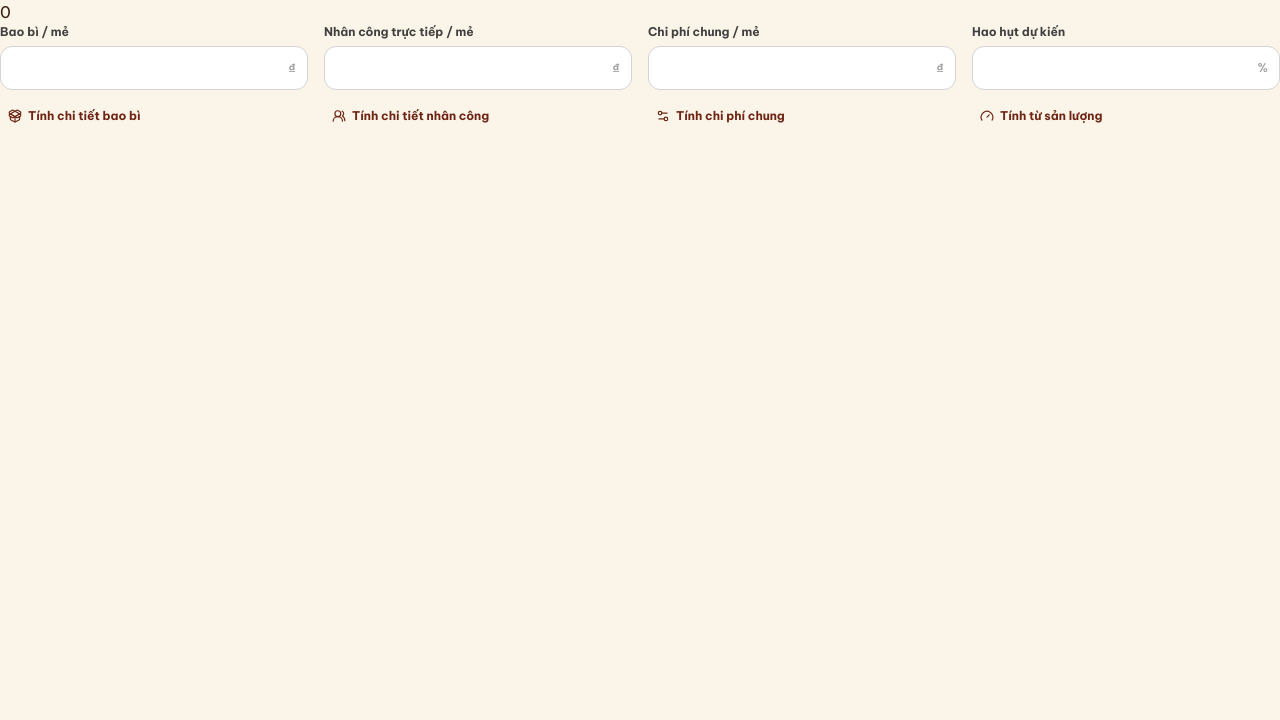
Test: RecipeSupplementalCostEditor › applies the saved overhead calculation to the BOM draft
The width and height of the screenshot is (1280, 720).
Click the button "Tính chi phí chung".
click(720, 116)  # box [648, 98, 793, 134]
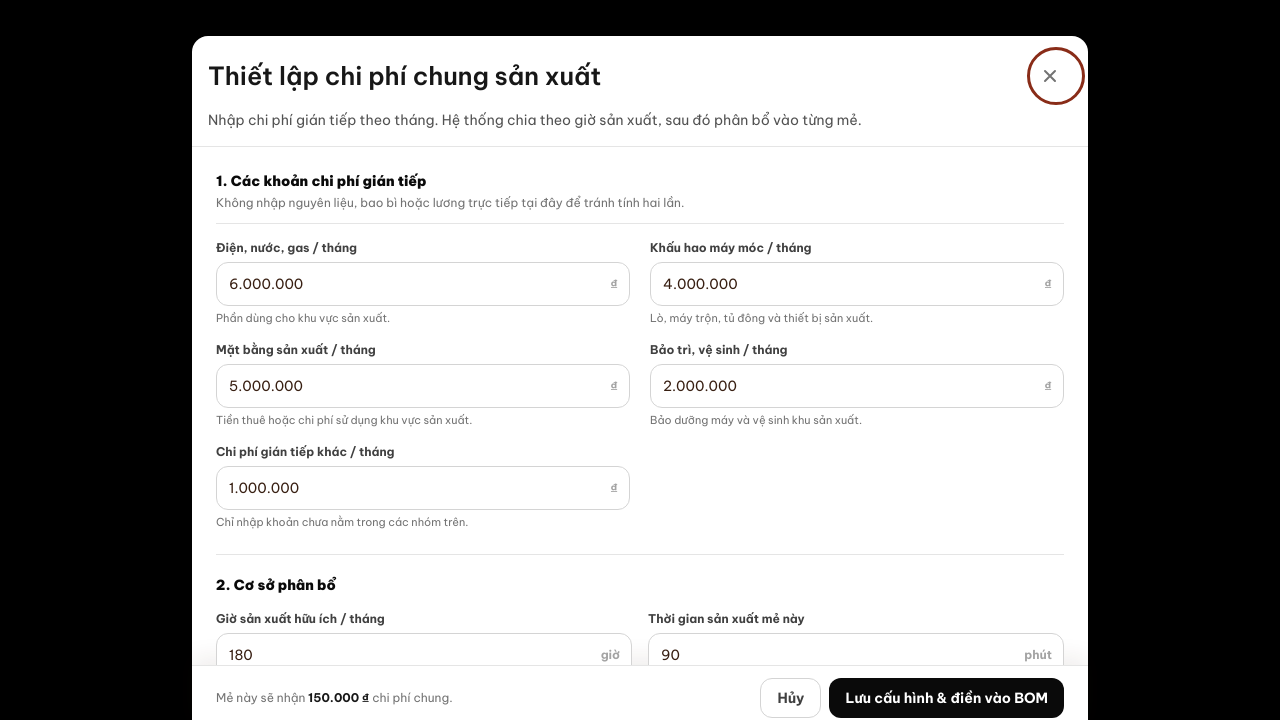
Click the button "Lưu cấu hình & điền vào BOM".
click(947, 698)  # box [830, 678, 1064, 718]
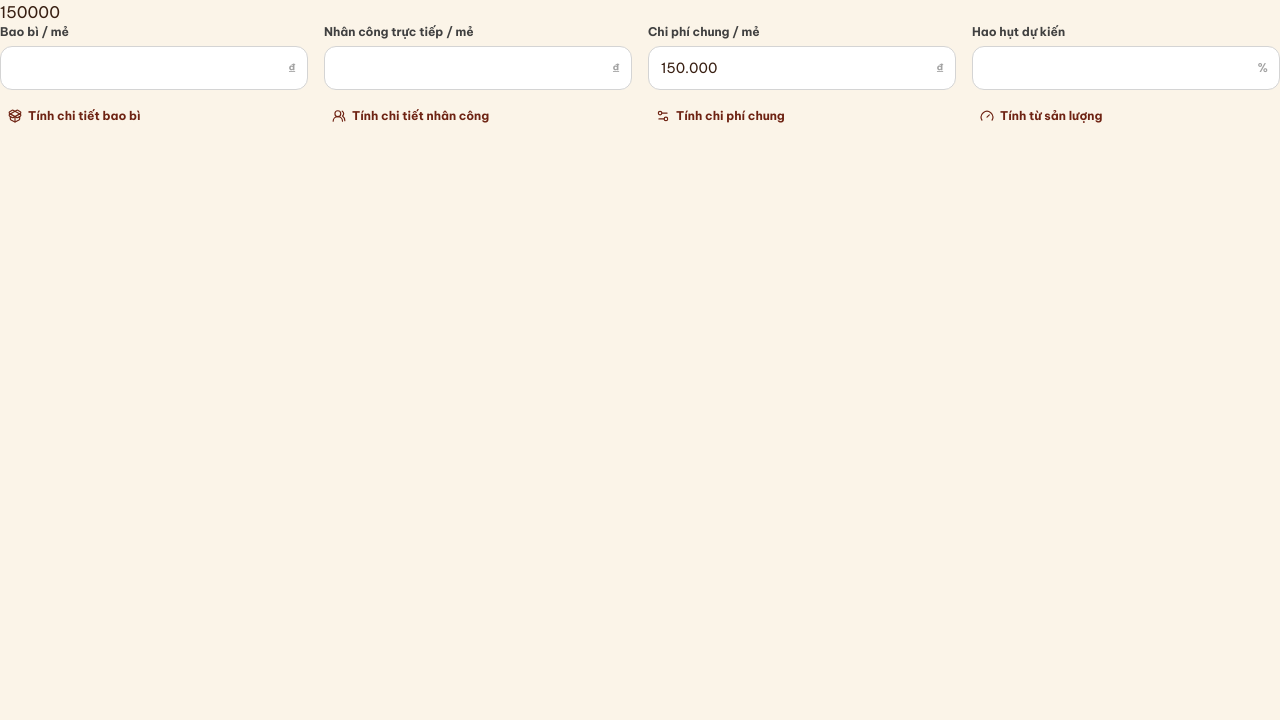
Result: the text with test id "overhead-value" reads "150000" at [0, 2, 60, 22]
